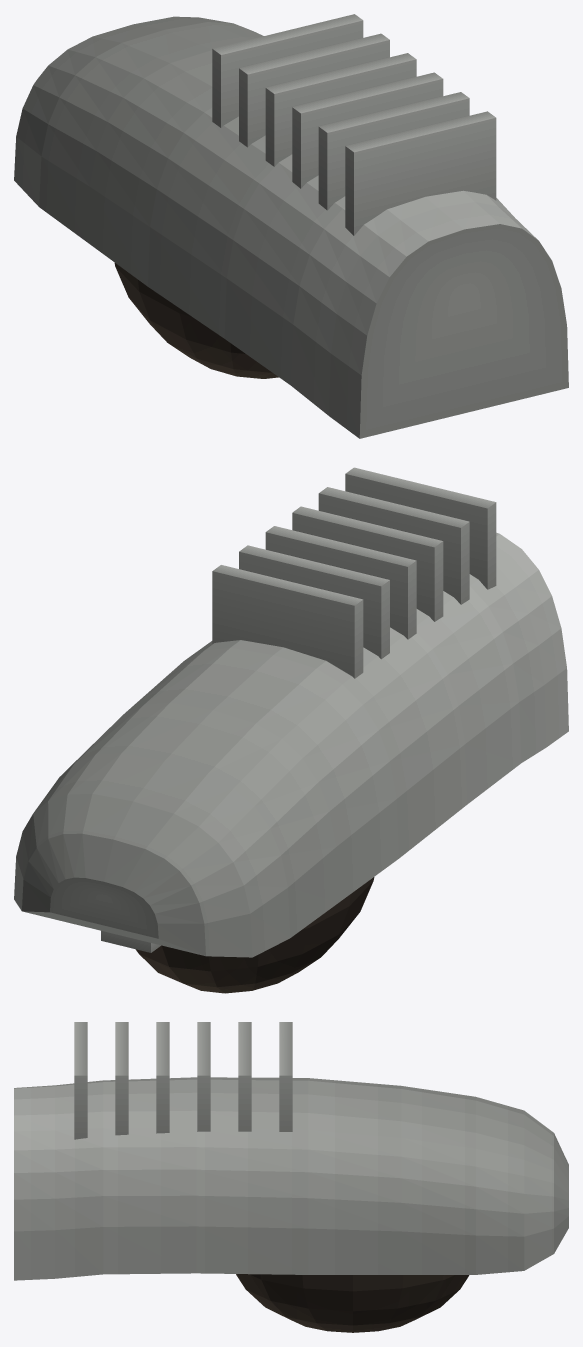
Rendered from streetlight_whov50finned.obj.
3 renders of one model, top to bottom at view 1: azimuth 30°, elevation 25°; view 2: azimuth 150°, elevation 25°; view 3: azimuth 270°, elevation 25°, orthographic. The views are drawn at different scales.
Parts seen in each view (by area): view 1: fixture; view 2: fixture; view 3: fixture.
Boxes of the visible parts, box(x1,y1,x2,y2) form: fixture: box(14, 14, 568, 438); fixture: box(14, 467, 568, 993); fixture: box(14, 1022, 568, 1332).
Size of the model in its own units: 0.375 by 0.5125 by 0.9312.
